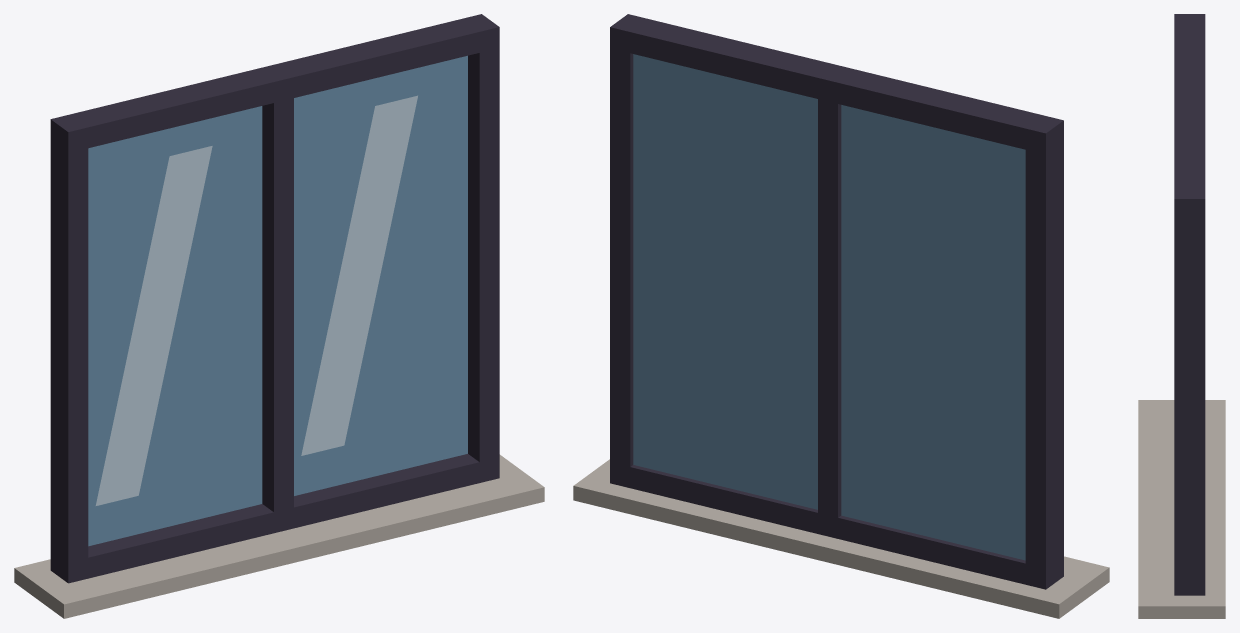
File: SM_Window_Slider_140x140.fbx
3 renders of one model, left to right at view 1: azimuth 30°, elevation 25°; view 2: azimuth 150°, elevation 25°; view 3: azimuth 270°, elevation 25°, orthographic. The views are drawn at different scales.
Parts seen in each view (by area): view 1: SM_Window_Slider_140x140; view 2: SM_Window_Slider_140x140; view 3: SM_Window_Slider_140x140.
Boxes of the visible parts, bbox=[...] form: SM_Window_Slider_140x140: bbox=[14, 14, 544, 618]; SM_Window_Slider_140x140: bbox=[573, 14, 1109, 618]; SM_Window_Slider_140x140: bbox=[1138, 14, 1225, 618].
Bounding box in the file's own units: 1.56 × 0.28 × 1.44.
